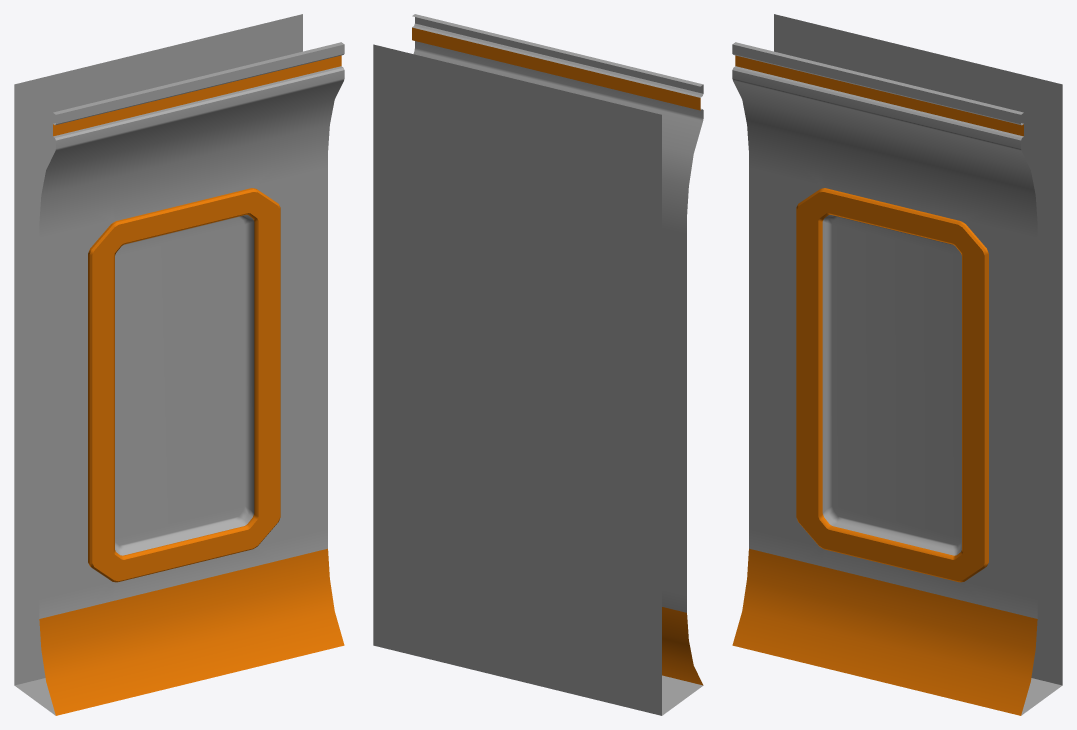
The model's file is SM_wall_inset.fbx.
3 views of the same model, side by side, from view 1: azimuth 30°, elevation 25°; view 2: azimuth 150°, elevation 25°; view 3: azimuth 330°, elevation 25° (orthographic).
Visible parts, largest first — view 1: polySurface8; view 2: polySurface8; view 3: polySurface8.
Boxes of the visible parts, left/top/right/bottom form: polySurface8: left=14, top=14, right=344, bottom=715; polySurface8: left=373, top=14, right=703, bottom=715; polySurface8: left=732, top=14, right=1062, bottom=715.
Bounding box in the file's own units: 2 × 3.98 × 0.4988.
